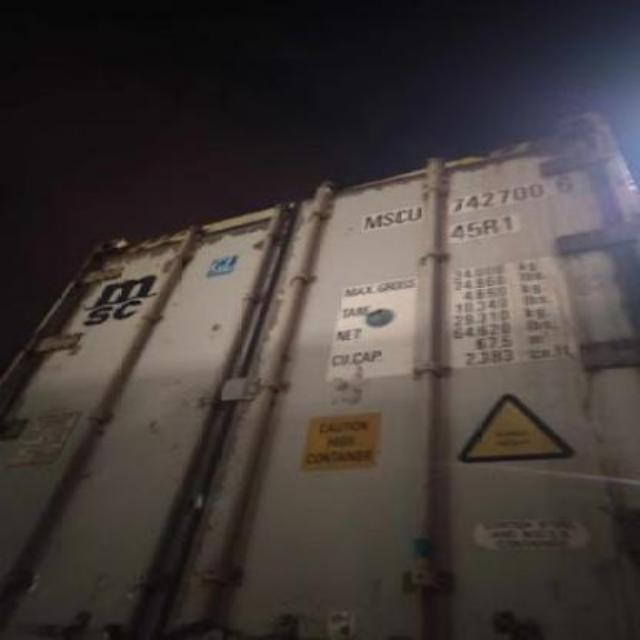0: (526, 176, 550, 202), (510, 182, 528, 202)
2: (478, 182, 494, 212)
4: (464, 193, 482, 214)
6: (548, 170, 580, 197)
7: (494, 183, 510, 207), (446, 196, 464, 212)
C: (396, 202, 406, 225)
M: (364, 211, 382, 231)
S: (382, 210, 396, 230)
U: (406, 200, 422, 223)
